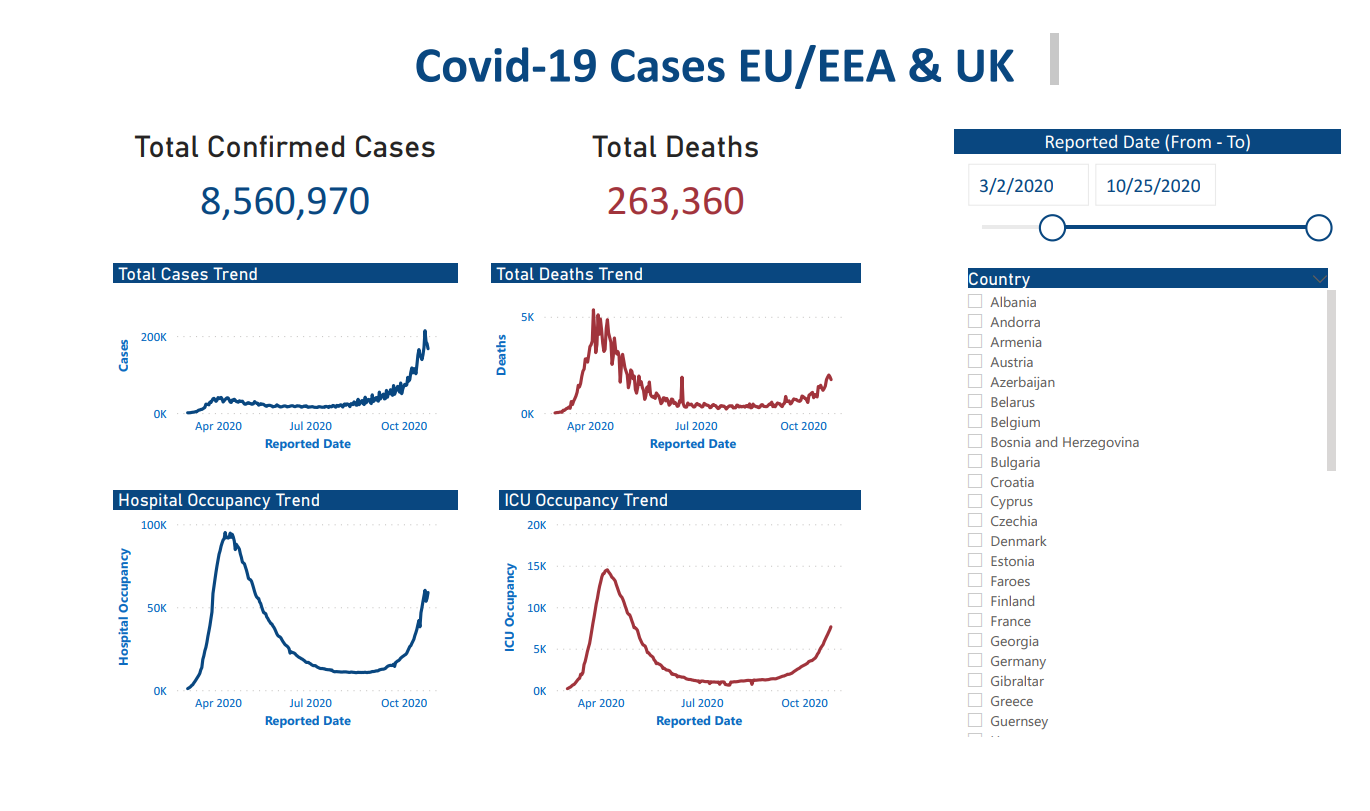

The page's visual inventory and layout, read from the dashboard file:
{"tool":"powerbi","page":{"name":"Trends","canvas":[1280,720],"ordinal":0},"visuals":[{"type":"card","title":"Total Confirmed Cases","fields":{"Values":["Sum(covid_reporting cases_and_deaths.cases_count)"]},"box":[94.4,96,328,96],"z":0},{"type":"card","title":"Total Deaths","fields":{"Values":["Sum(covid_reporting cases_and_deaths.deaths_count)"]},"box":[454.4,96,352,96],"z":1000},{"type":"textbox","box":[376,0,624,64],"z":2000},{"type":"lineChart","title":"Total Cases Trend","fields":{"Category":["covid_reporting cases_and_deaths.reported_date"],"Y":["Sum(covid_reporting cases_and_deaths.cases_count)"]},"box":[94.4,224,328,184],"z":3000},{"type":"lineChart","title":"Total Deaths Trend","fields":{"Category":["covid_reporting cases_and_deaths.reported_date"],"Y":["Sum(covid_reporting cases_and_deaths.deaths_count)"]},"box":[454.4,224,352,184],"z":4000},{"type":"slicer","fields":{"Values":["covid_reporting cases_and_deaths.country"]},"box":[896,224,368,456],"z":5000},{"type":"lineChart","title":"Hospital Occupancy Trend","fields":{"Y":["Sum(covid_reporting hospital_admissions_daily.hospital_occupancy_count)"],"Category":["covid_reporting hospital_admissions_daily.reported_date"]},"box":[94.4,440,328,232],"z":6000},{"type":"lineChart","title":"ICU Occupancy Trend","fields":{"Y":["Sum(covid_reporting hospital_admissions_daily.icu_occupancy_count)"],"Category":["covid_reporting hospital_admissions_daily.reported_date"]},"box":[462.4,440,344,232],"z":7000},{"type":"slicer","title":"Reported Date (From - To)","fields":{"Values":["covid_reporting cases_and_deaths.reported_date"]},"box":[896,96,368,112],"z":8001}]}

Visuals, with their boxes on the page's 1280x720 design canvas (x1, y1, x2, y2). These are canvas units, not pixel positions in the 1370x811 screenshot, which may show the page scaled, cropped or inside an application window:
"Total Confirmed Cases" card: <bbox>94, 96, 422, 192</bbox>
"Total Deaths" card: <bbox>454, 96, 806, 192</bbox>
textbox: <bbox>376, 0, 1000, 64</bbox>
"Total Cases Trend" lineChart: <bbox>94, 224, 422, 408</bbox>
"Total Deaths Trend" lineChart: <bbox>454, 224, 806, 408</bbox>
slicer - covid_reporting cases_and_deaths.country: <bbox>896, 224, 1264, 680</bbox>
"Hospital Occupancy Trend" lineChart: <bbox>94, 440, 422, 672</bbox>
"ICU Occupancy Trend" lineChart: <bbox>462, 440, 806, 672</bbox>
"Reported Date (From - To)" slicer: <bbox>896, 96, 1264, 208</bbox>
